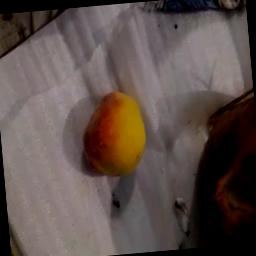Peach Unripe: (66, 77, 162, 188)
